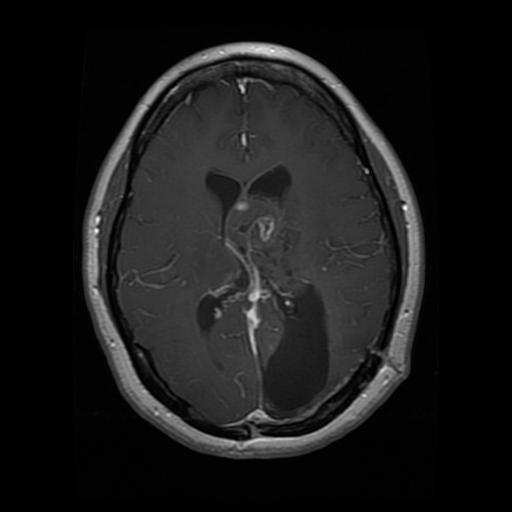Gliomia_tumour: (208, 162, 330, 414)
